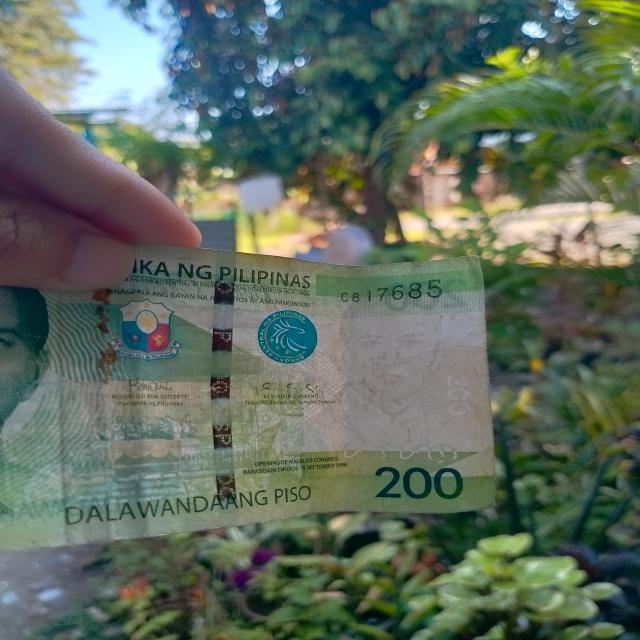security_thread: (212, 246, 237, 529)
see_through_mark: (310, 436, 456, 469)
value_watermark: (442, 370, 484, 420)
watermark: (316, 297, 454, 442)
